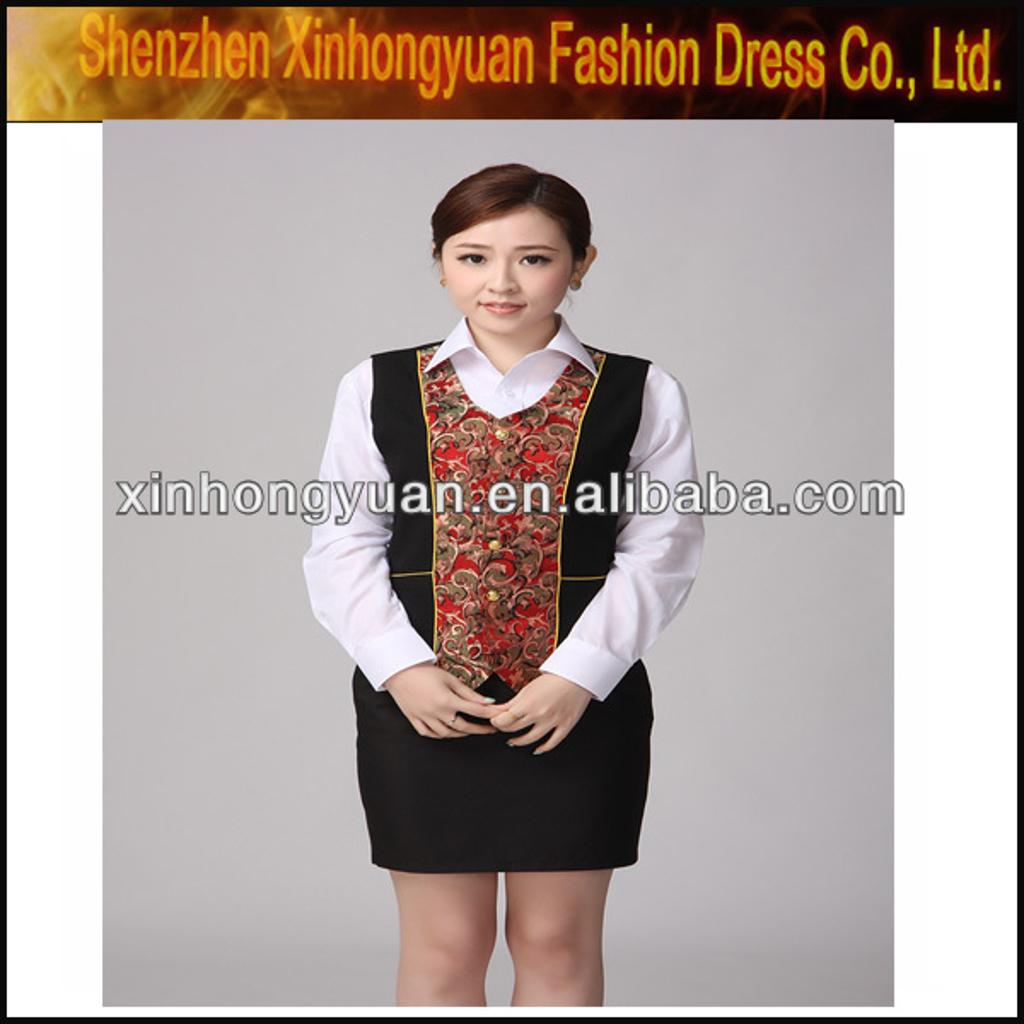face: (442, 214, 570, 330)
